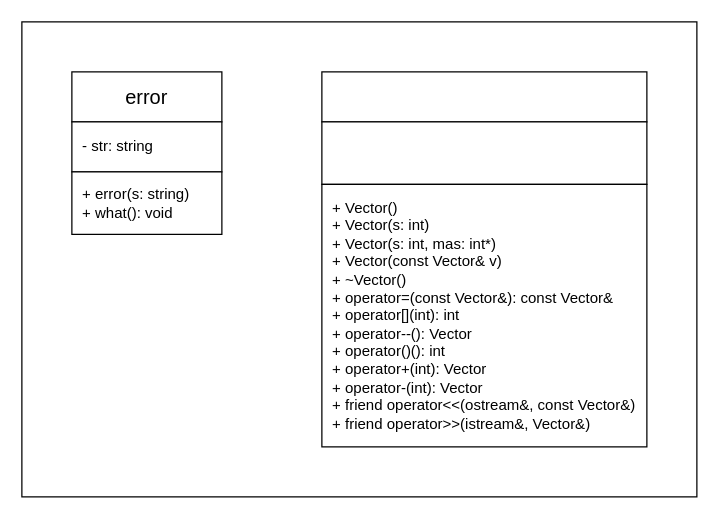
Image size: 719x519. Some labels were removed from this diagram. The centre of each missing label's shape, as x and y in pixels:
"- size: int - beg: int*" belongs at pixel 484 152.
"Vector" belongs at pixel 484 96.
